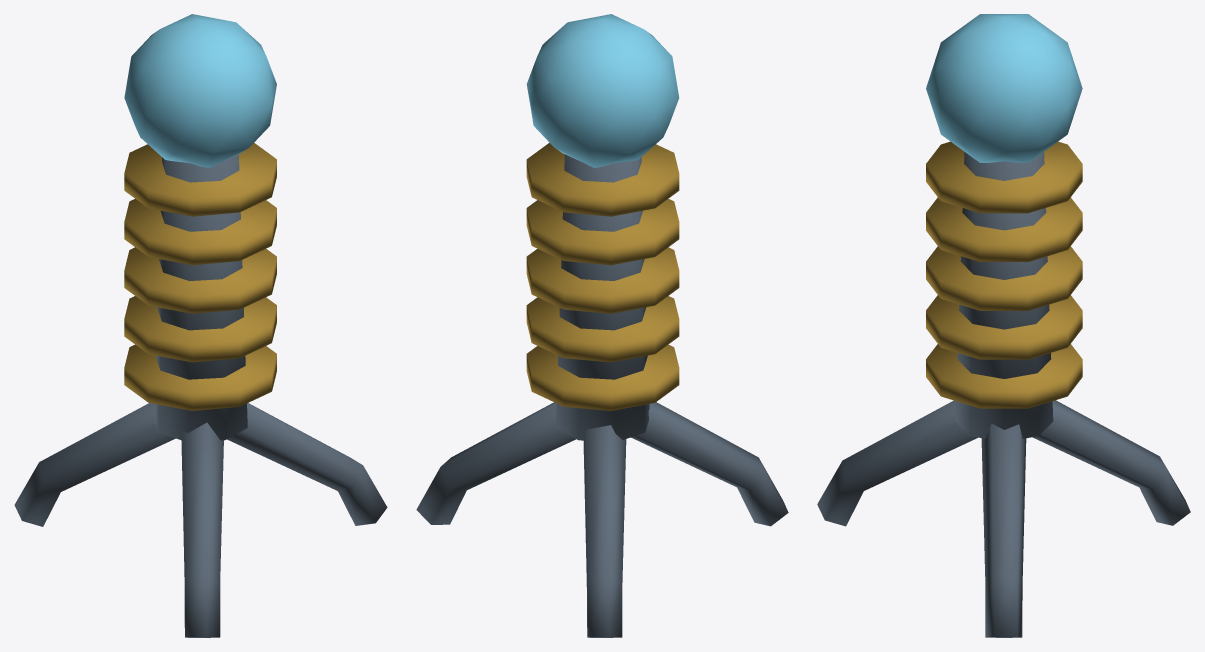
Rendered from tesla_turret.glb.
The picture shows the model from 3 angles, left to right: view 1: azimuth 30°, elevation 25°; view 2: azimuth 150°, elevation 25°; view 3: azimuth 270°, elevation 25°; orthographic projection.
Parts seen in each view (by area): view 1: tesla_turret; view 2: tesla_turret; view 3: tesla_turret.
Boxes of the visible parts, box(x1,y1,x2,y2) form: tesla_turret: box(14, 14, 387, 637); tesla_turret: box(416, 14, 788, 637); tesla_turret: box(817, 14, 1190, 637).
Size of the model in its own units: 0.6693 by 1.23 by 0.7628.
